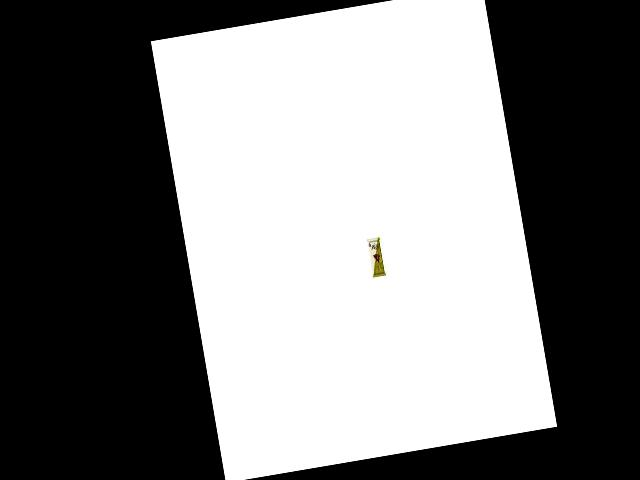chocolate: (363, 234, 390, 280)
